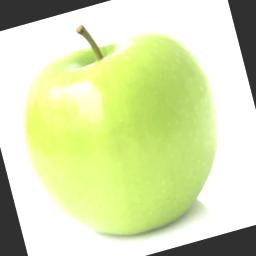Apple Ripe: (0, 0, 242, 251)
